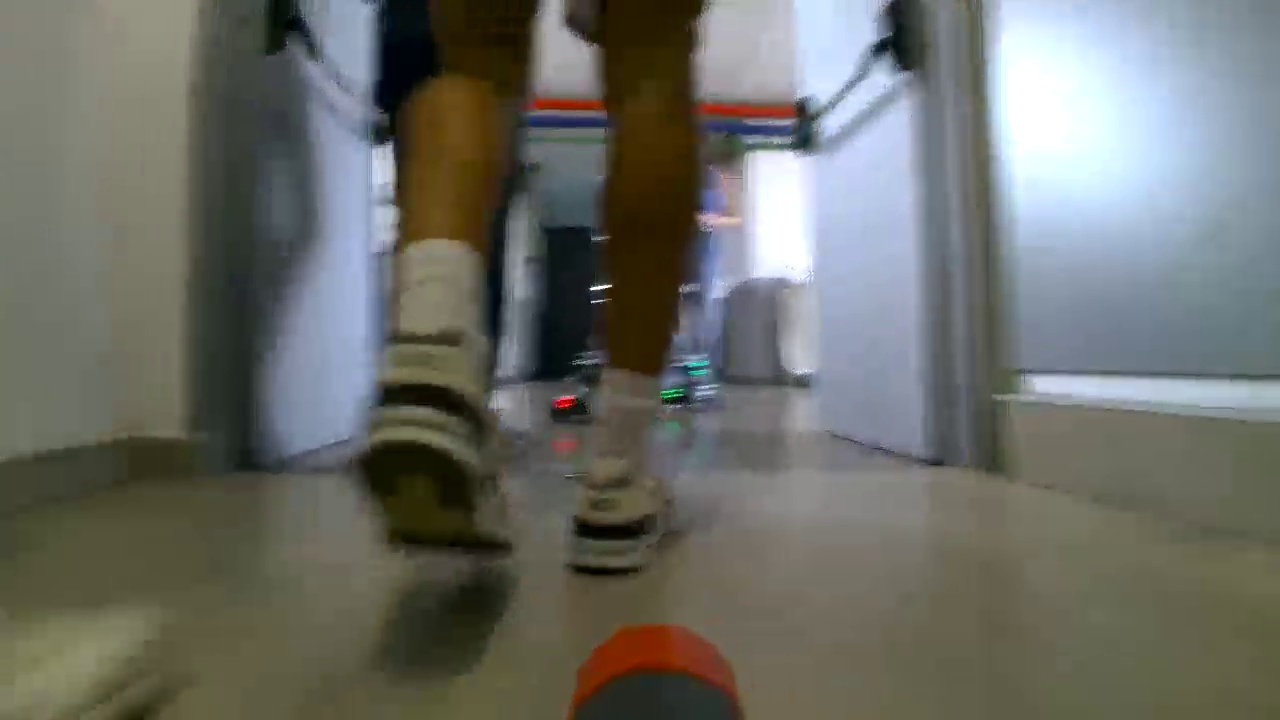robot: (654, 358, 707, 438), (544, 366, 599, 434)
